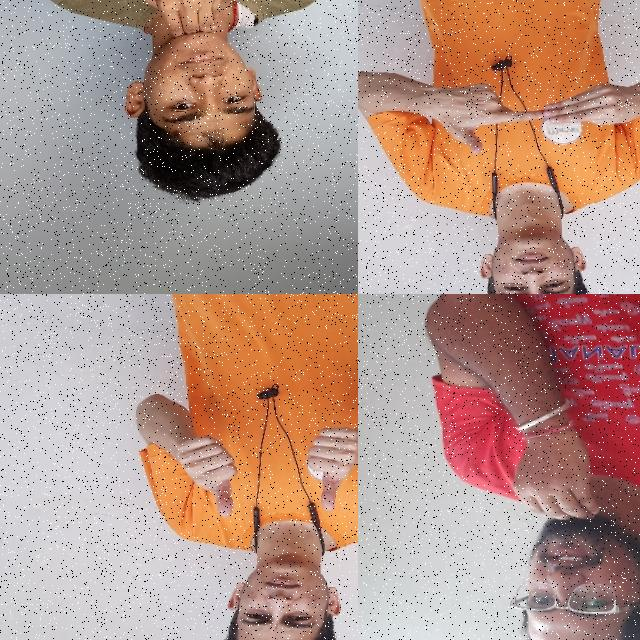Chin Flick: (116, 0, 290, 207), (503, 423, 640, 640)
Five Fathers: (421, 62, 640, 164)
Thumbs Up: (170, 422, 244, 523), (299, 415, 358, 512)
